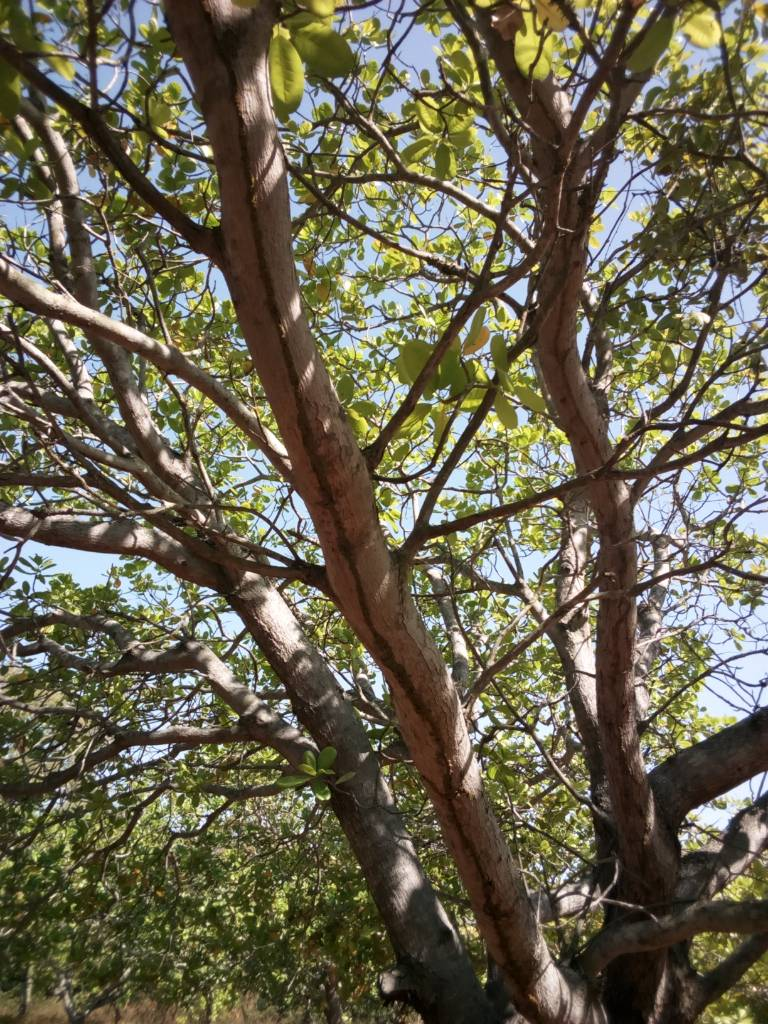Termites: (268, 292, 352, 516), (336, 544, 436, 722), (438, 763, 508, 946), (230, 80, 277, 260)
